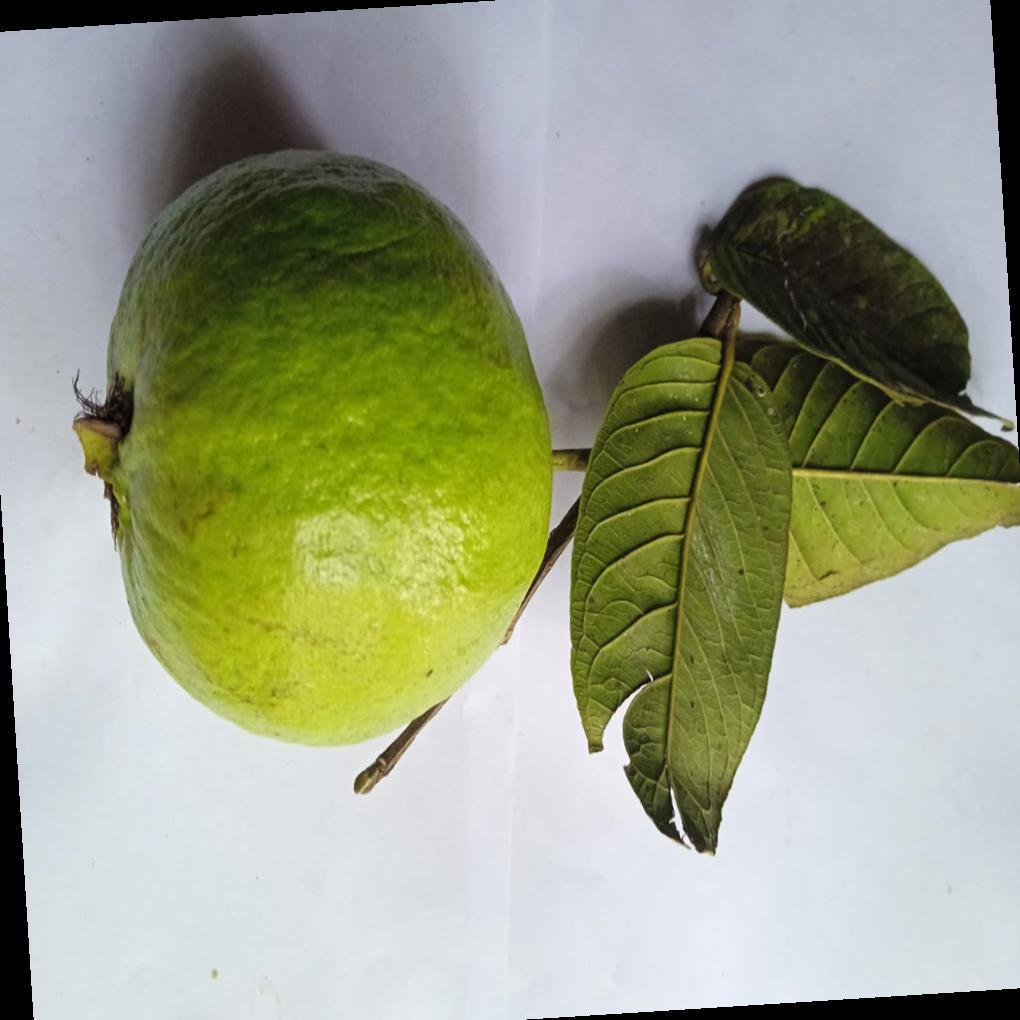FreshGuava: (74, 148, 557, 752)
